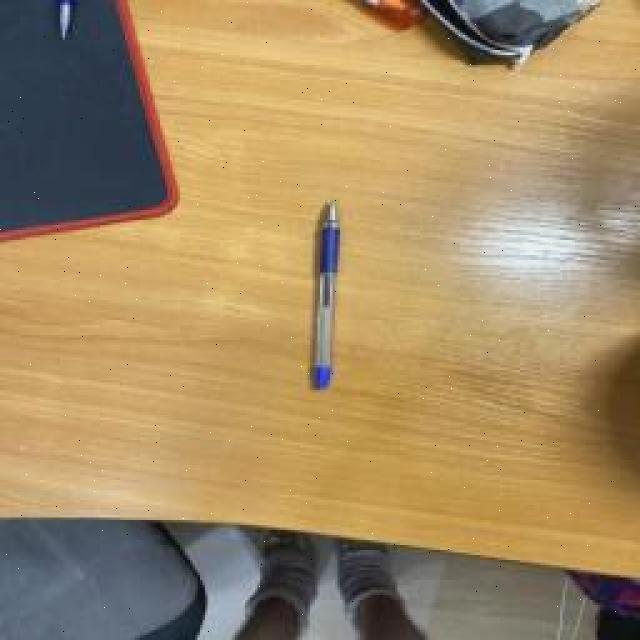pen: (308, 200, 348, 390)
